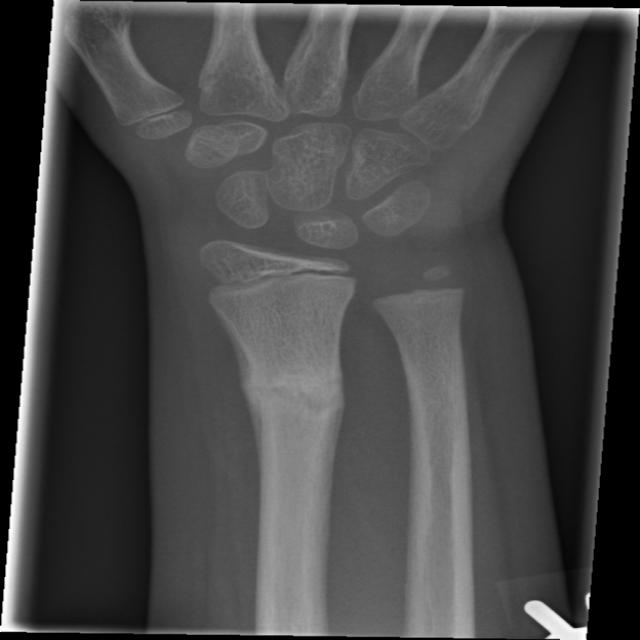radius fracture: (221, 340, 376, 473)
